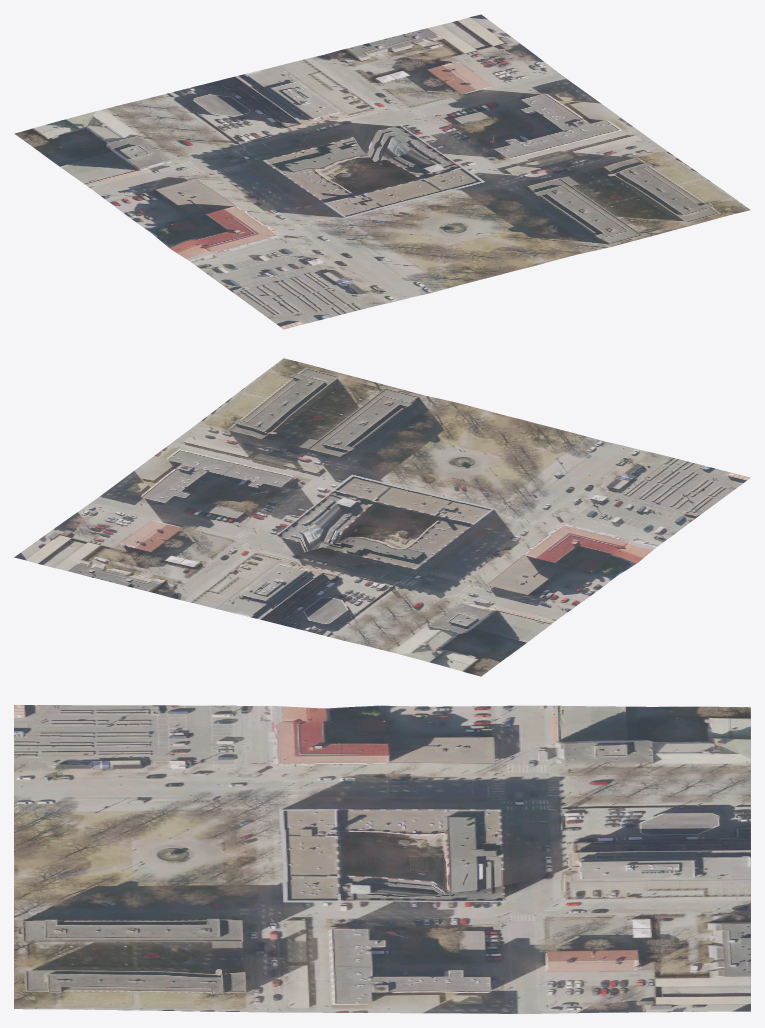
The model's file is CM_Terrain_24488206_6821432.fbx.
3 views of the same model, one above another, from view 1: azimuth 30°, elevation 25°; view 2: azimuth 150°, elevation 25°; view 3: azimuth 270°, elevation 25° (orthographic). The views are drawn at different scales.
Visible parts, largest first — view 1: CM_Terrain_24488206_6821432_LOD0; view 2: CM_Terrain_24488206_6821432_LOD0; view 3: CM_Terrain_24488206_6821432_LOD0.
Part boxes in pixels (x1,y1,x2,y2): CM_Terrain_24488206_6821432_LOD0: [14, 14, 750, 329]; CM_Terrain_24488206_6821432_LOD0: [14, 358, 750, 676]; CM_Terrain_24488206_6821432_LOD0: [14, 705, 750, 1013].
Size of what is drawn, in the model's own units: 205 by 15.06 by 205.
